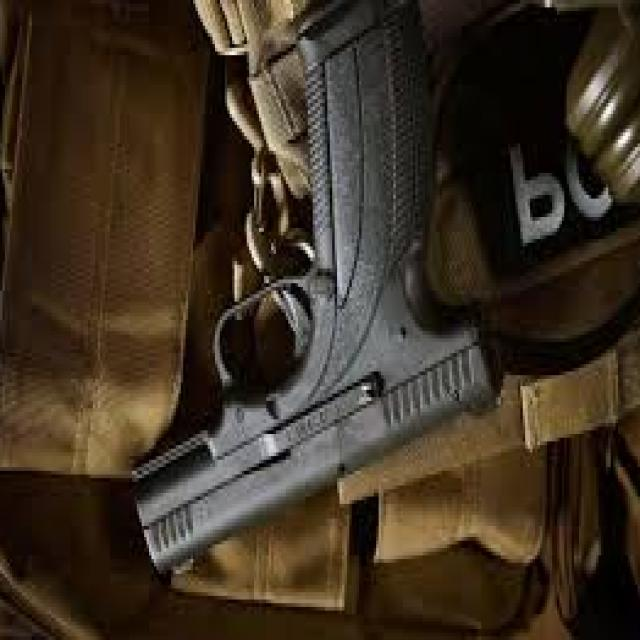Gun: (111, 13, 503, 615)
